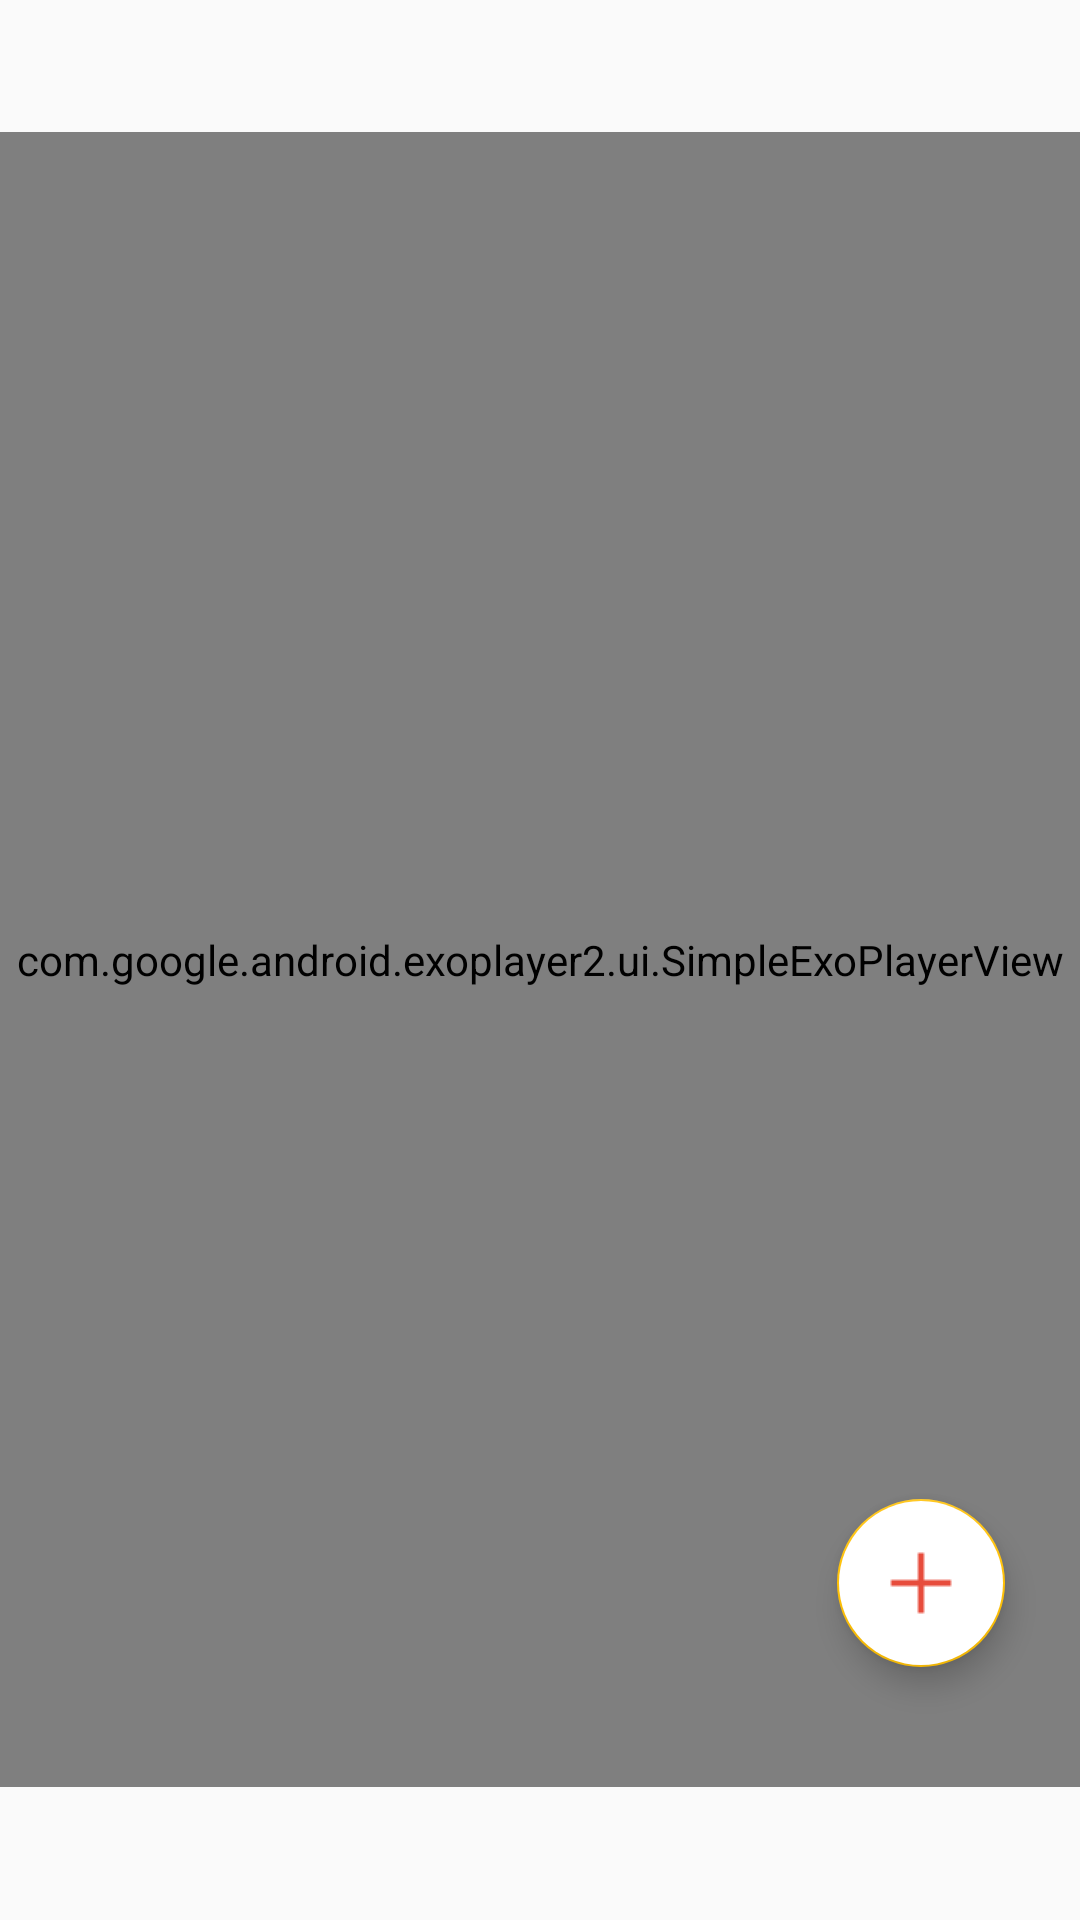

Named icons in this screenshot (1080x1920) and their centers, (x=x, y=y):
plus: (x=921, y=1583)
